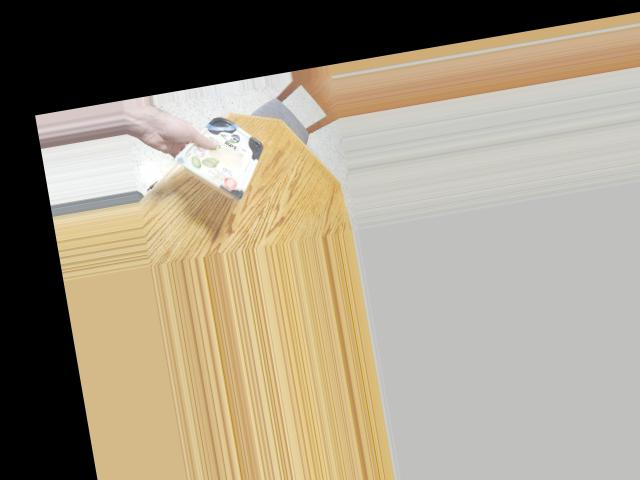cheese: (178, 121, 267, 195)
